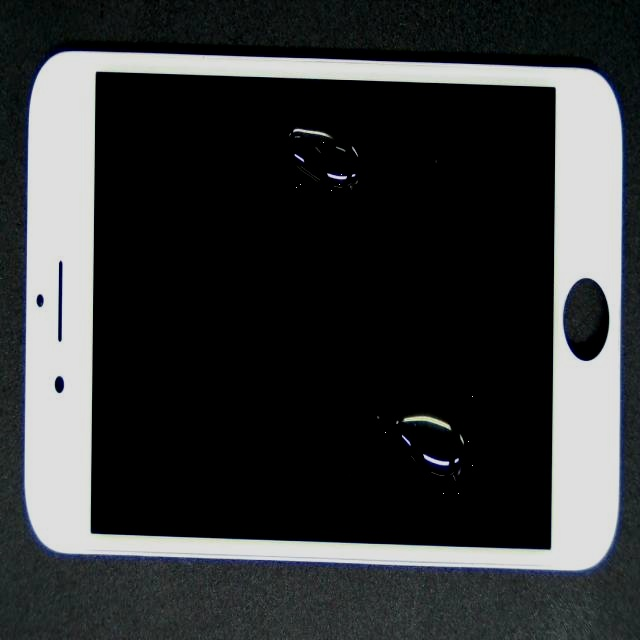oil: (243, 181, 618, 605), (185, 62, 472, 178)
